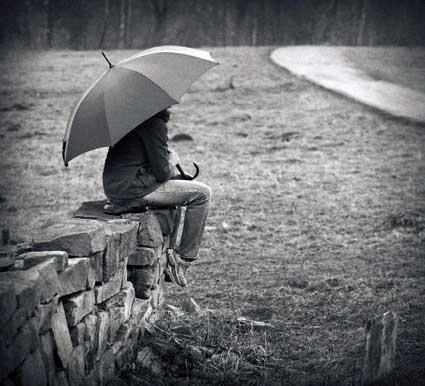Umbrella: (54, 41, 223, 185)
